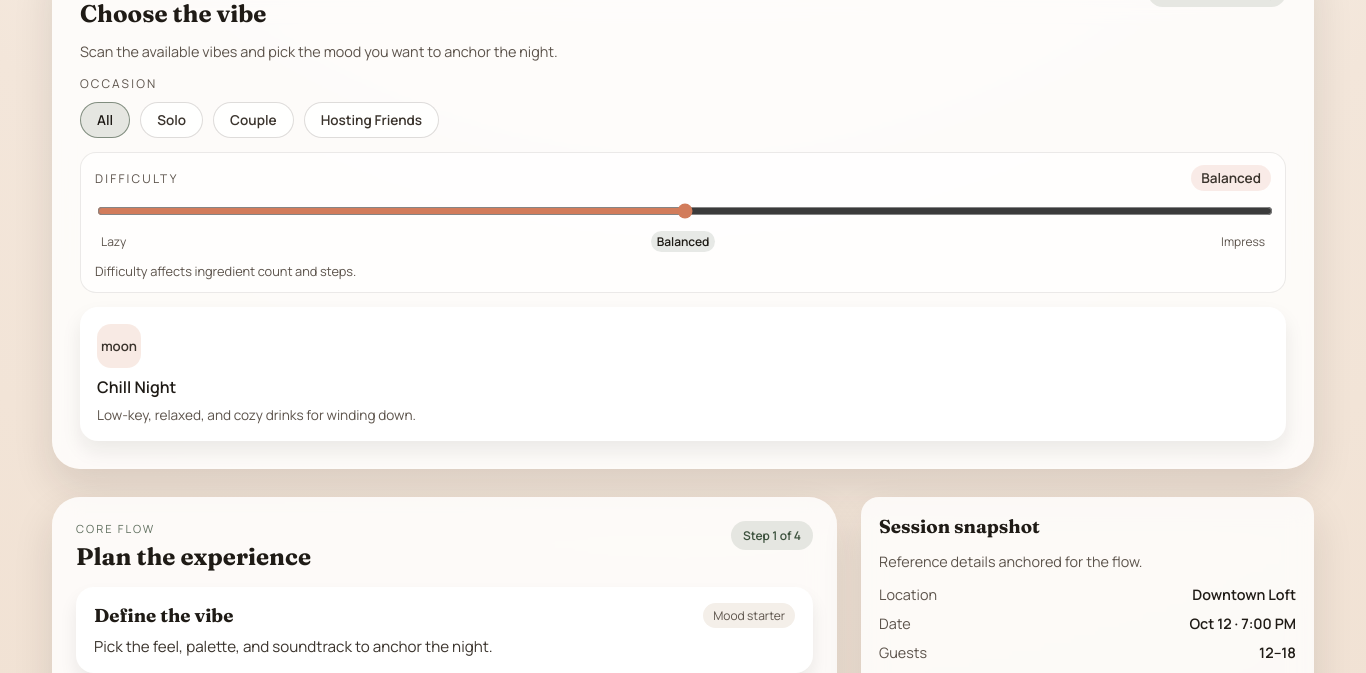
it: AppLayout cocktail results › shows the empty state and clears filters
The image size is (1366, 673).
(page scrolled)
What coordinates should you click on to do the following:
click the button "Chill Night"
I would click on:
 (683, 374)
Its box is [80,307,1286,441].
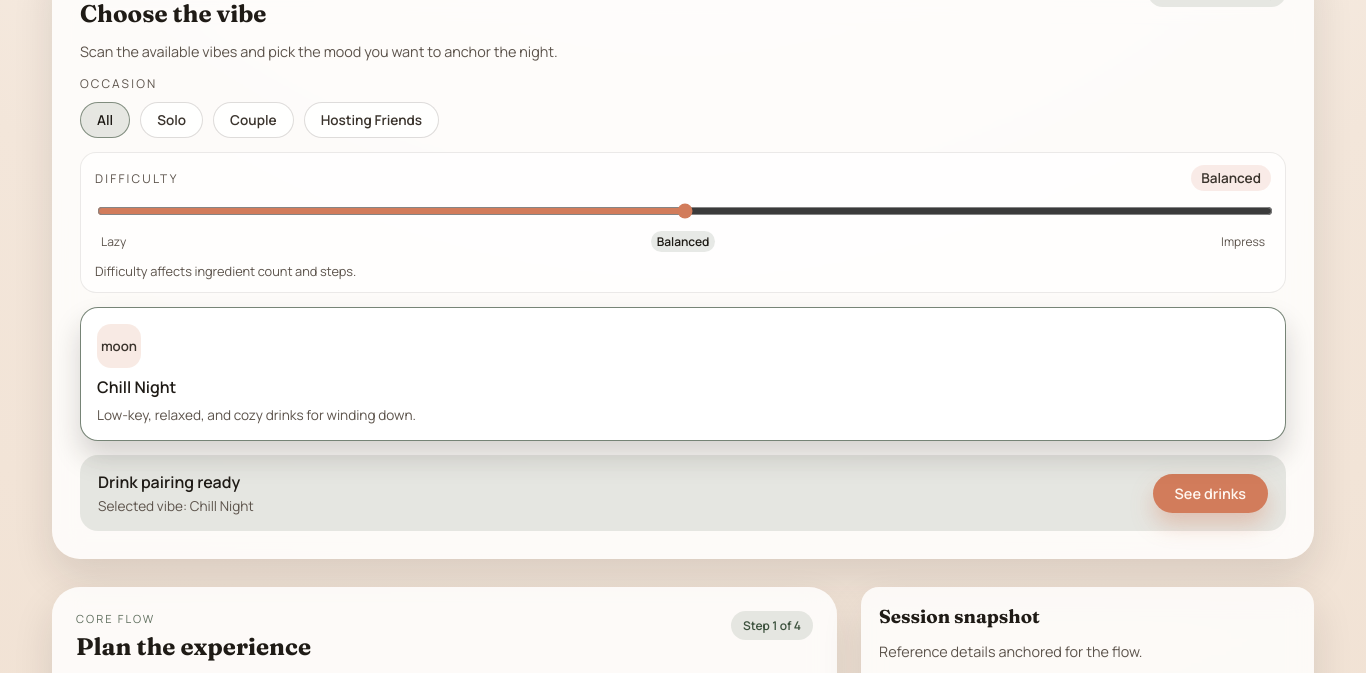
What coordinates should you click on to do the following:
click the button "See drinks"
I would click on:
 (1210, 493)
Its box is [1153,474,1268,512].
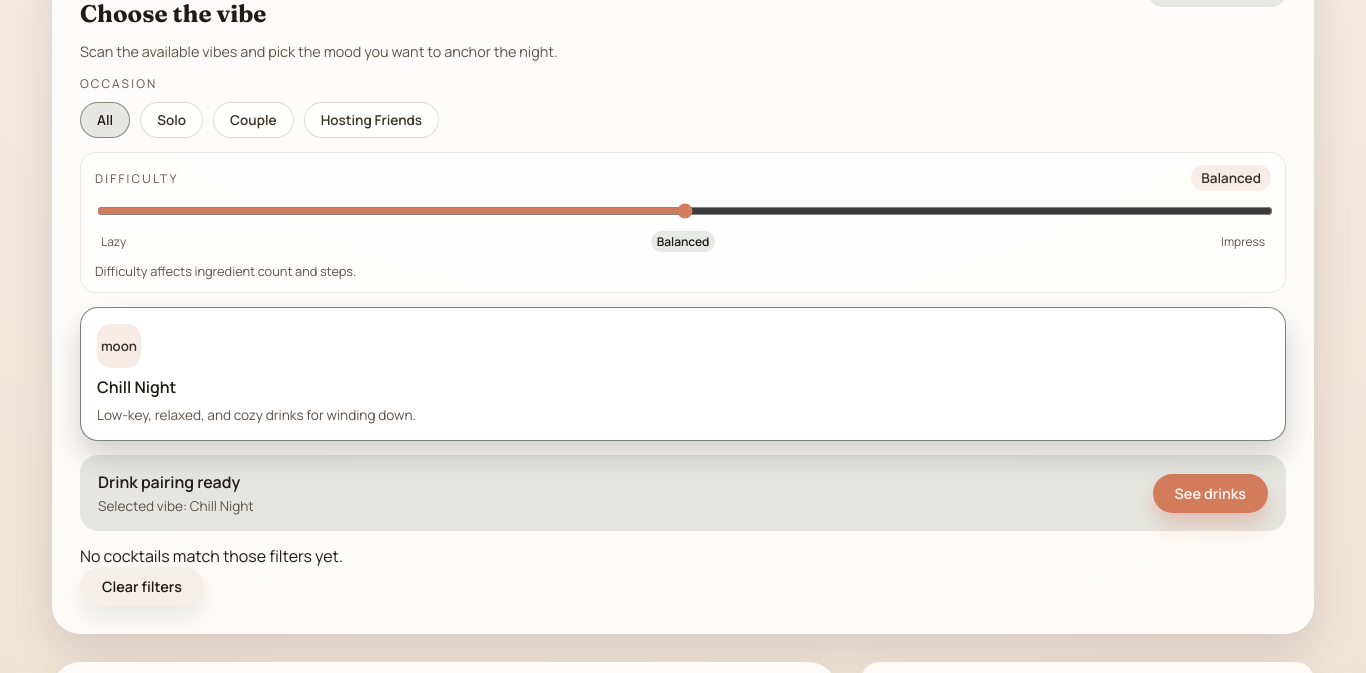
Result: the text "No cocktails match those filters yet." is shown at [80,545,343,567]
What coordinates should you click on to do the following:
click the button "Clear filters"
I would click on:
 (142, 586)
Its box is [80,567,204,606].
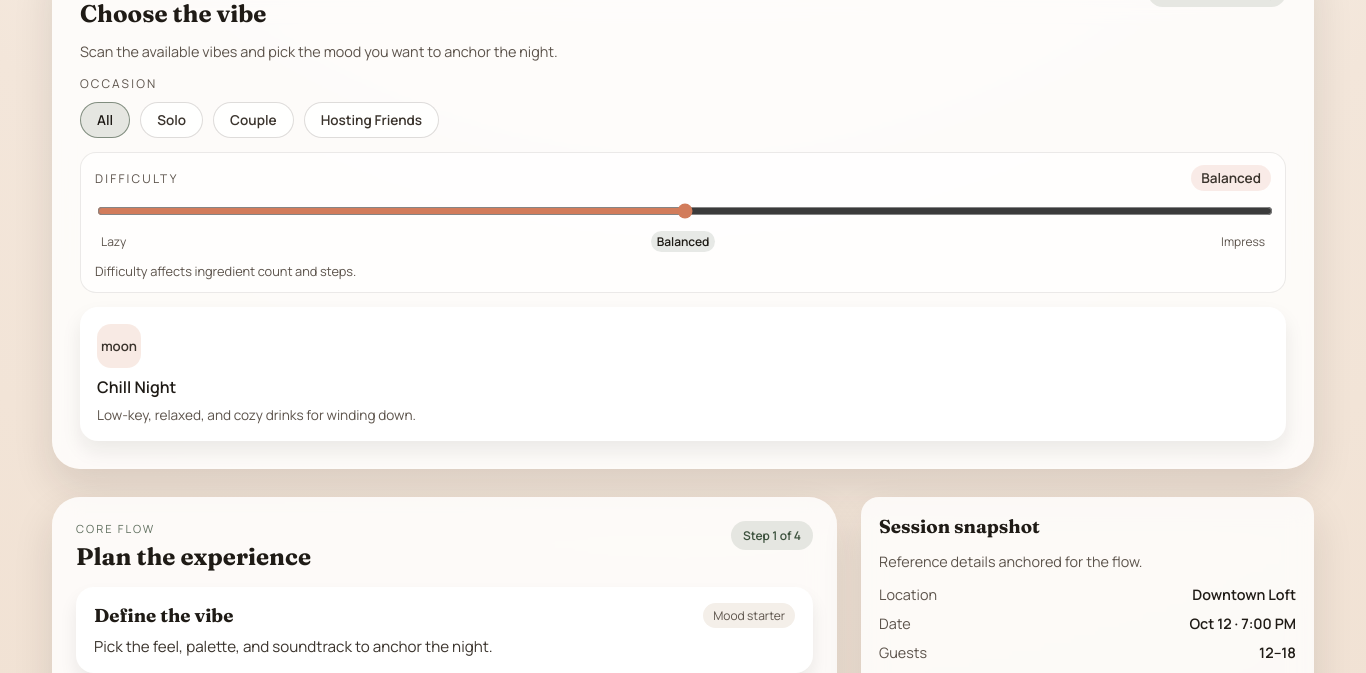
Result: the text "No cocktails match those filters yet." is gone
